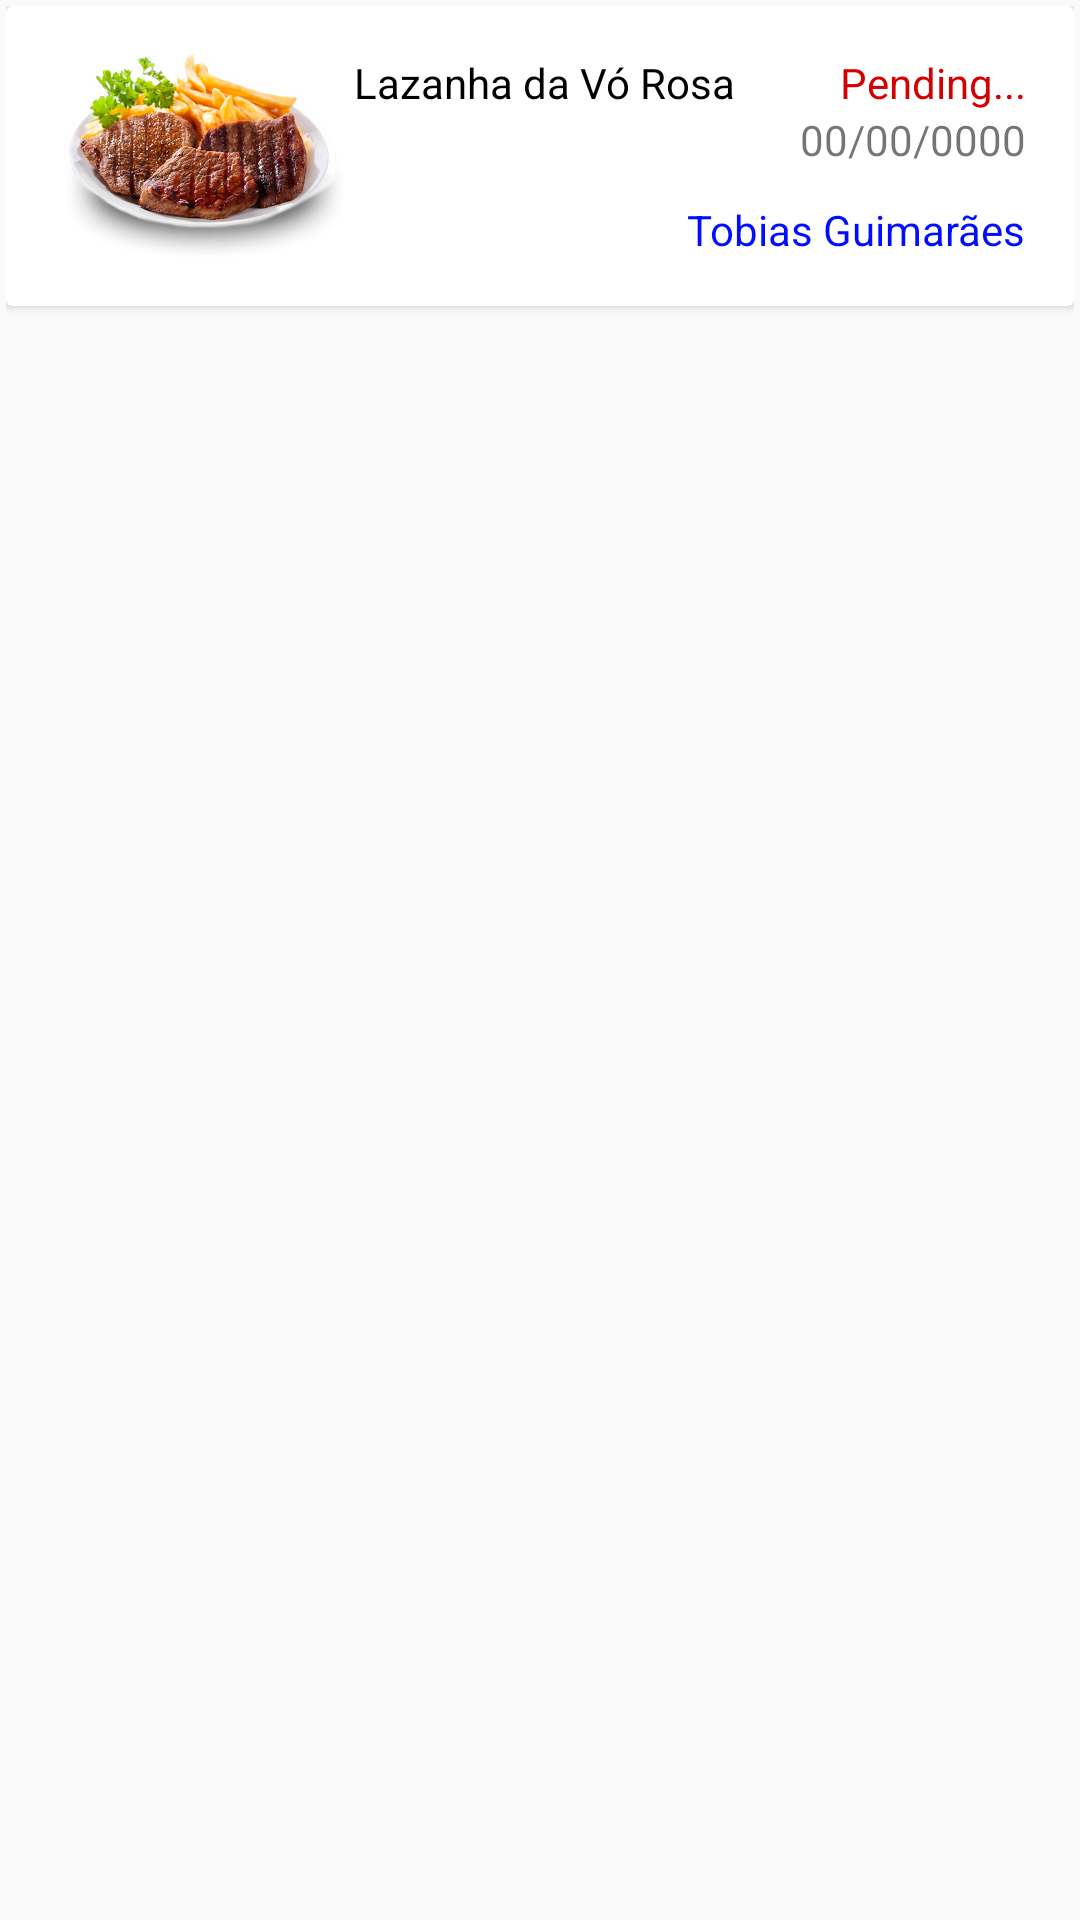

Screen size 1080w x 1920h. Icon name, then its center in pixels as (x=x, y=y):
prato: (x=202, y=150)
